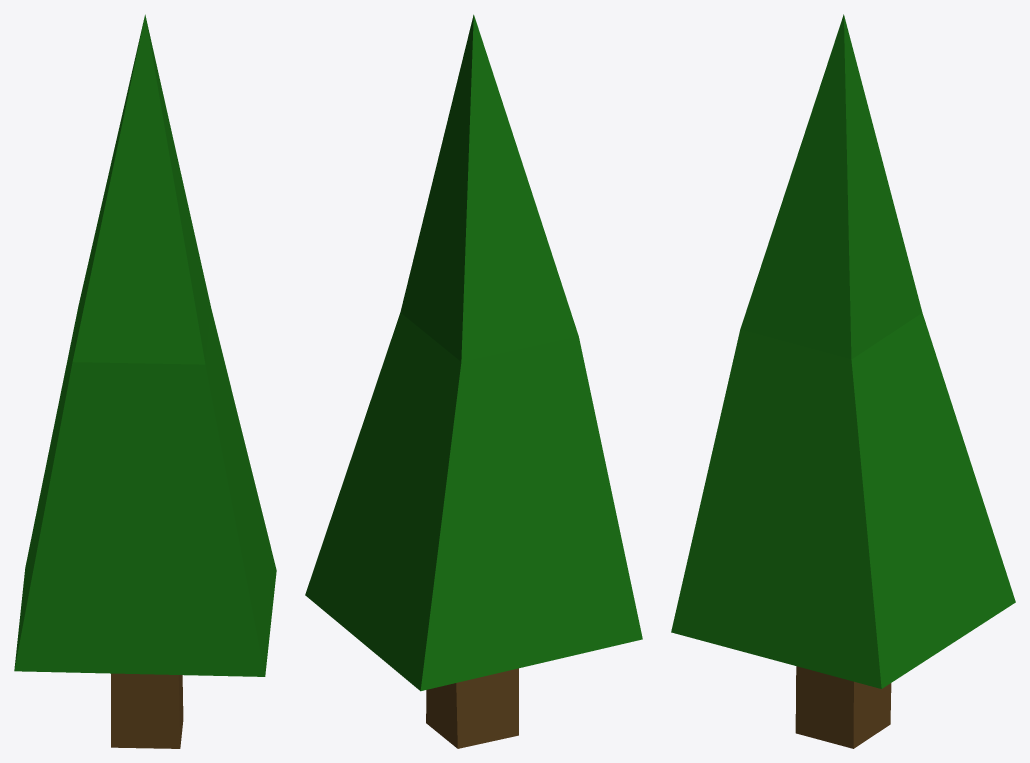
File: 240519_tree_fir_01.glb
3 renders of one model, left to right at view 1: azimuth 30°, elevation 25°; view 2: azimuth 150°, elevation 25°; view 3: azimuth 270°, elevation 25°, orthographic.
Visible parts, largest first — view 1: Cube.002; view 2: Cube.002; view 3: Cube.002.
Part boxes in pixels (x1=…): Cube.002: x1=14, y1=14, x2=276, y2=748; Cube.002: x1=305, y1=14, x2=642, y2=748; Cube.002: x1=671, y1=14, x2=1015, y2=748.
Size of the model in its own units: 2.19 by 5 by 2.19.
